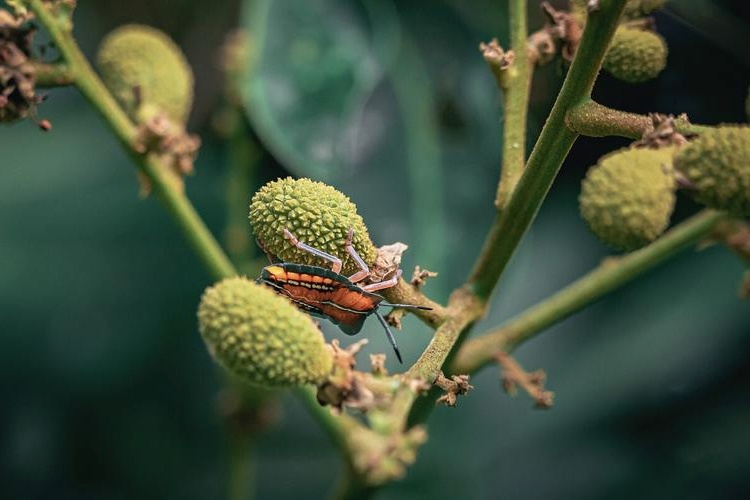Stink_Bug: (261, 236, 398, 332)
